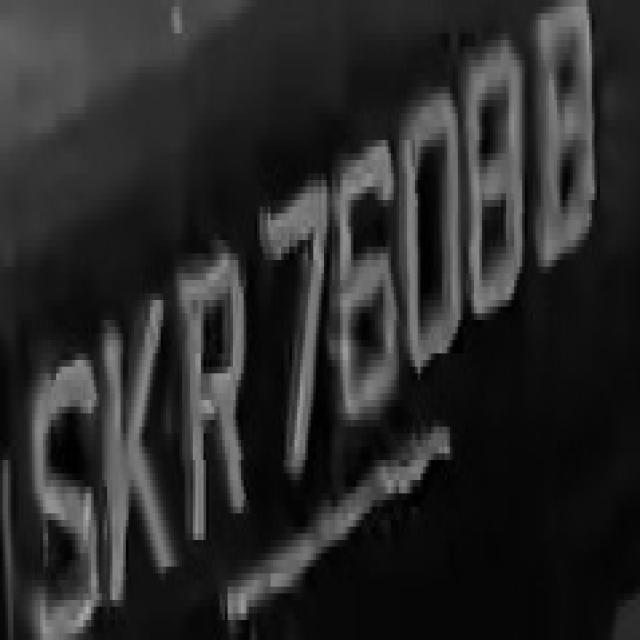0: (394, 67, 468, 413)
6: (330, 120, 404, 440)
7: (252, 167, 332, 500)
8: (453, 33, 530, 347)
B: (536, 7, 613, 286)
K: (99, 260, 174, 620)
R: (166, 240, 252, 573)
S: (0, 3, 1, 7)
